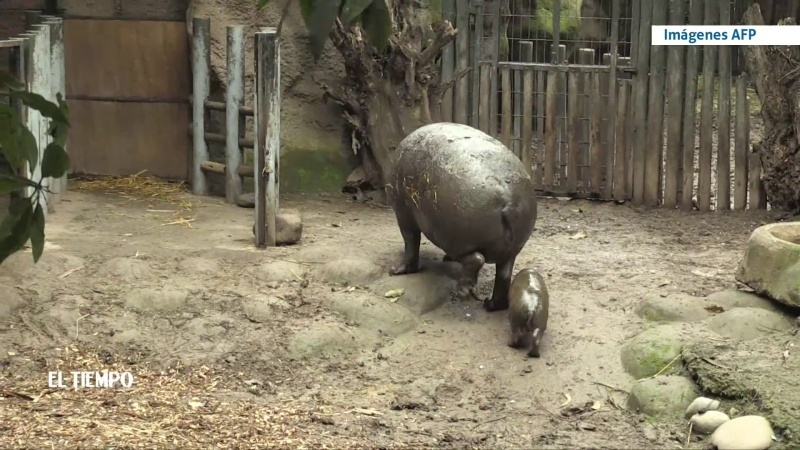hipopotamo: (374, 116, 542, 327), (497, 255, 574, 367)
